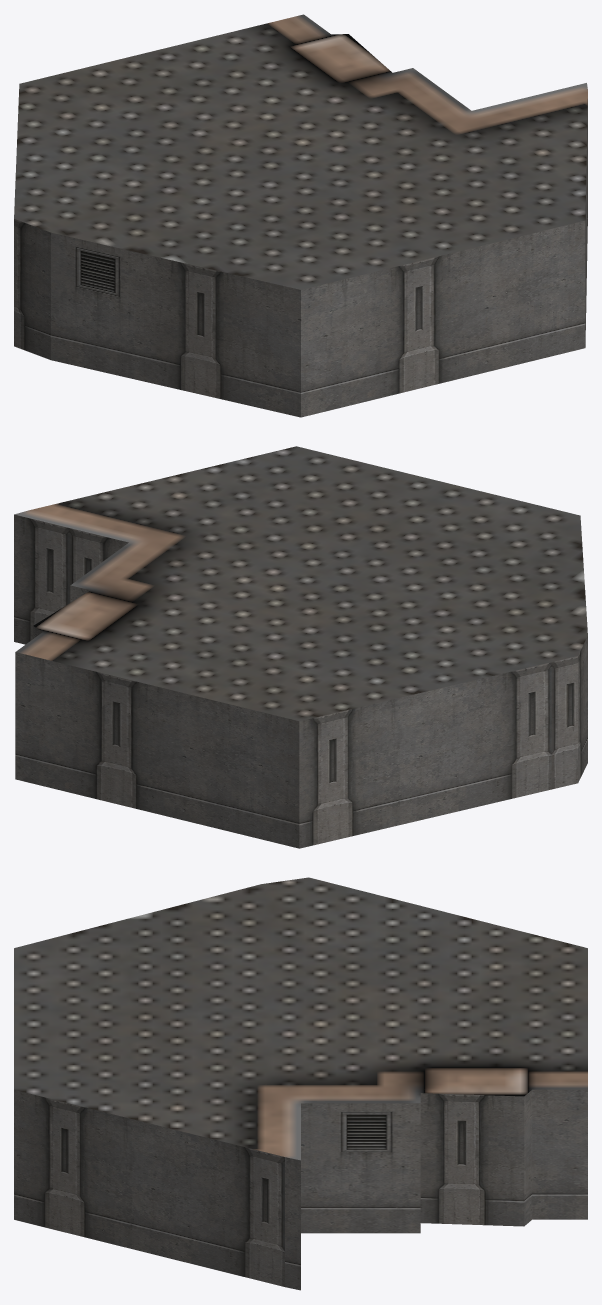
Rendered from building_hard_a_61.glb.
The picture shows the model from 3 angles, top to bottom: view 1: azimuth 30°, elevation 25°; view 2: azimuth 150°, elevation 25°; view 3: azimuth 270°, elevation 25°; orthographic projection. The views are drawn at different scales.
Parts seen in each view (by area): view 1: buildings/saxarba/building_hard/building_hard_a_61; view 2: buildings/saxarba/building_hard/building_hard_a_61; view 3: buildings/saxarba/building_hard/building_hard_a_61.
Boxes of the visible parts, <box> form: buildings/saxarba/building_hard/building_hard_a_61: <box>14,14,587,417</box>; buildings/saxarba/building_hard/building_hard_a_61: <box>14,446,587,848</box>; buildings/saxarba/building_hard/building_hard_a_61: <box>14,877,587,1290</box>.
Bounding box in the file's own units: 84 × 18 × 72.
